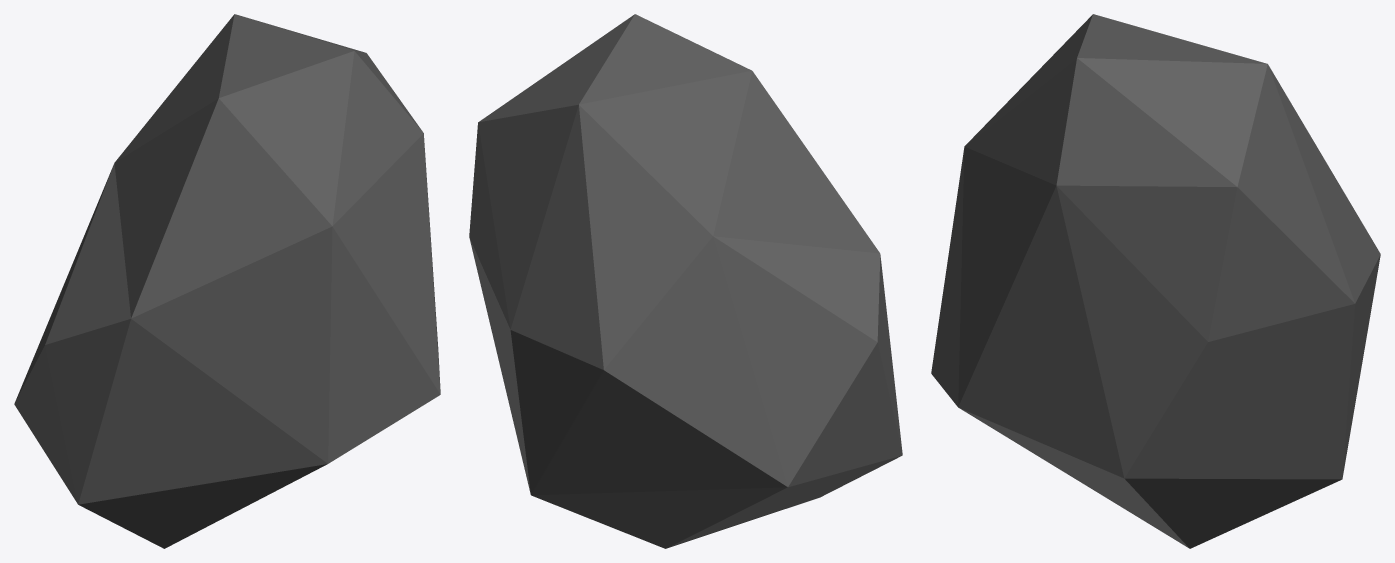
The model's file is Rock_03.fbx.
3 renders of one model, left to right at view 1: azimuth 30°, elevation 25°; view 2: azimuth 150°, elevation 25°; view 3: azimuth 270°, elevation 25°, orthographic. The views are drawn at different scales.
Visible parts, largest first — view 1: Rock_03; view 2: Rock_03; view 3: Rock_03.
Boxes of the visible parts, left/top/right/bottom form: Rock_03: left=14, top=14, right=440, bottom=548; Rock_03: left=469, top=14, right=902, bottom=548; Rock_03: left=931, top=14, right=1380, bottom=548.
Size of the model in its own units: 6.68 by 7.6 by 6.23.
